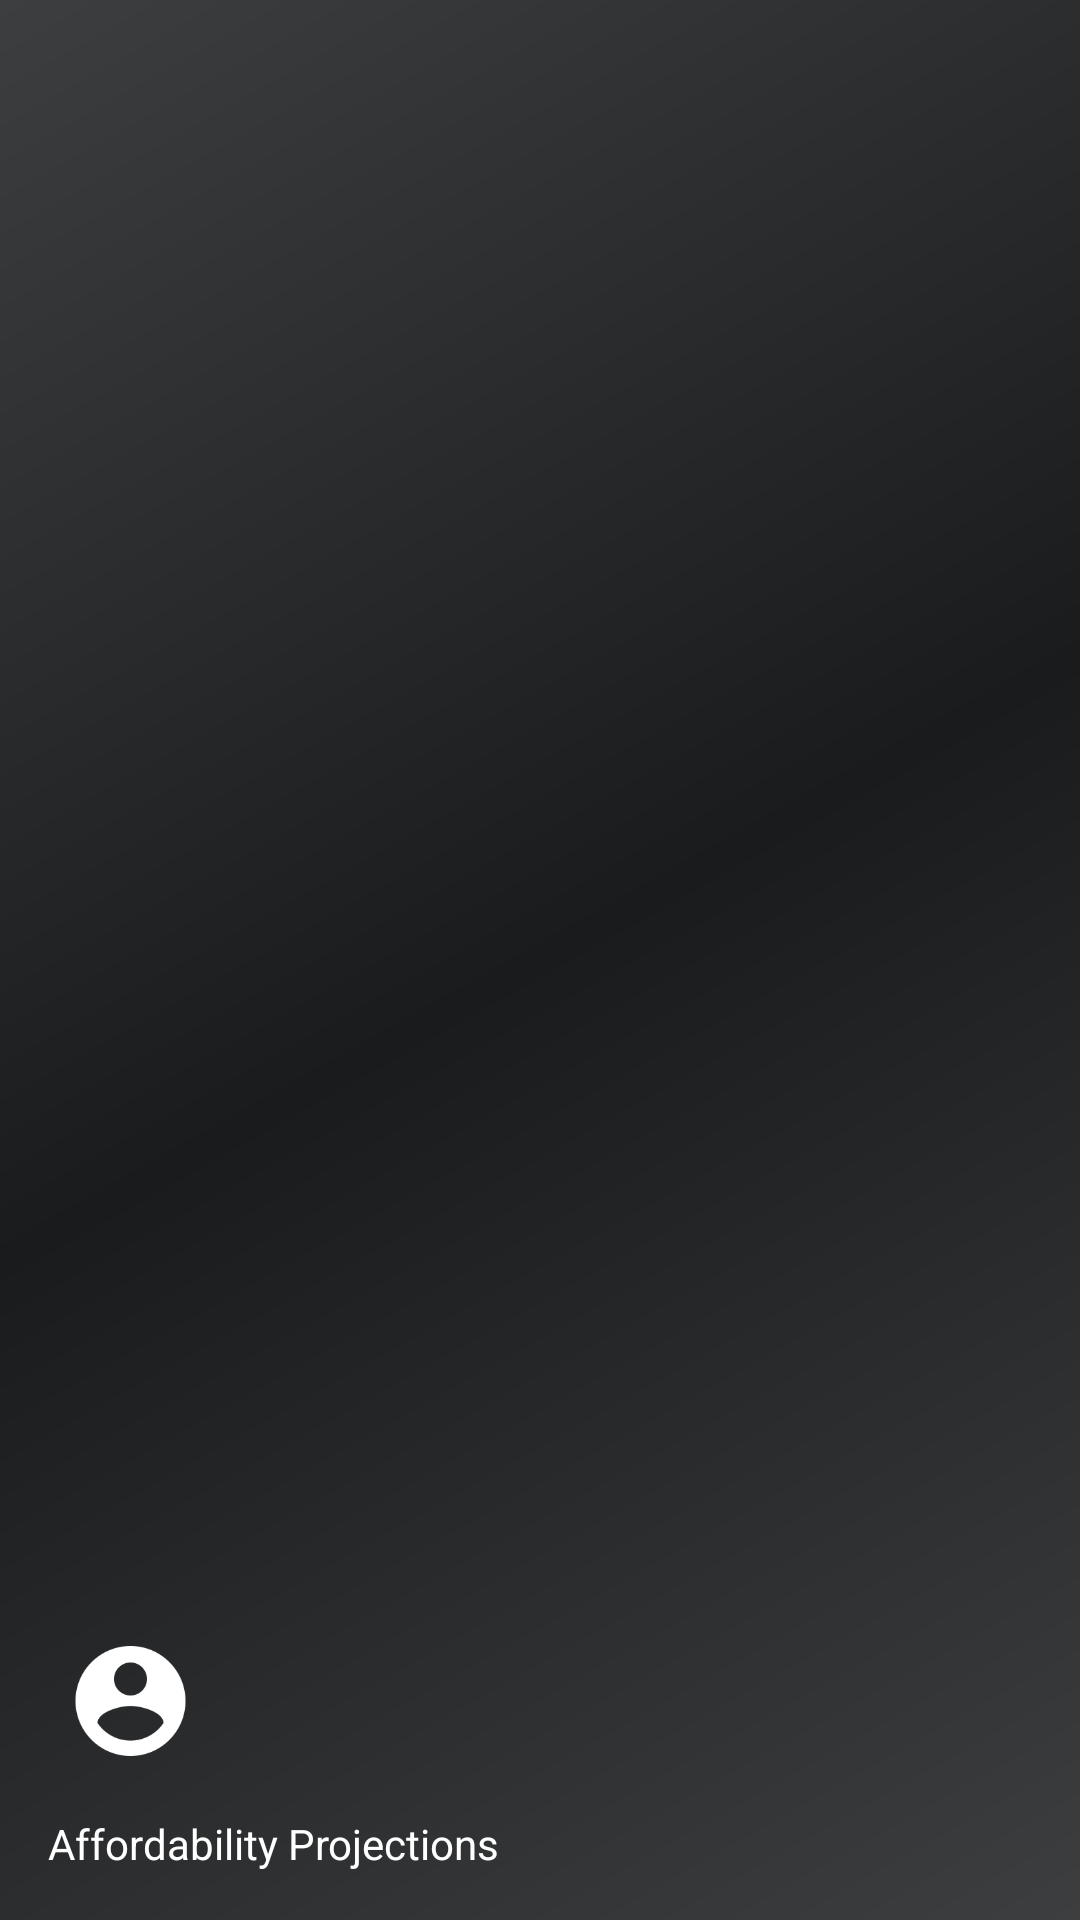

Locate icon controls on the screen. Image size 1080px×1920px, boxes as (left=x1, top=y1, right=x2, bottom=y2).
account circle: (left=75, top=1646, right=186, bottom=1756)
